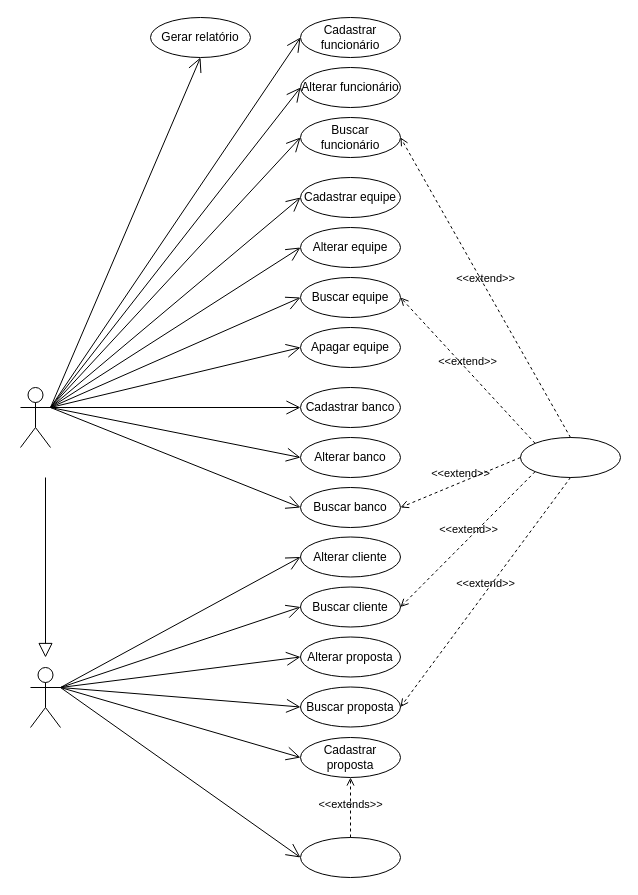
Image size: 638x895. Some labels were removed from this diagram. The shapes that lost their labels are listed below. From the top down, each one's centre as x and y in pixels, then its label:
At point (35, 417): "Gestor".
At point (570, 457): "Exportar para CSV".
At point (45, 697): "Consultor".
At point (350, 857): "Cadastrar cliente".
